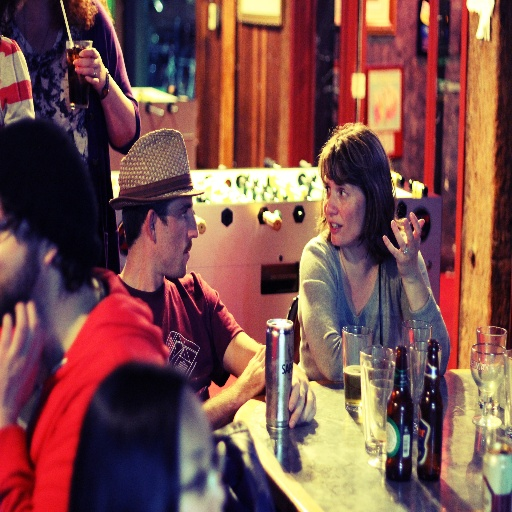hand: (0, 302, 44, 413), (392, 210, 432, 275), (65, 45, 107, 94), (288, 360, 315, 431), (236, 345, 266, 402)
